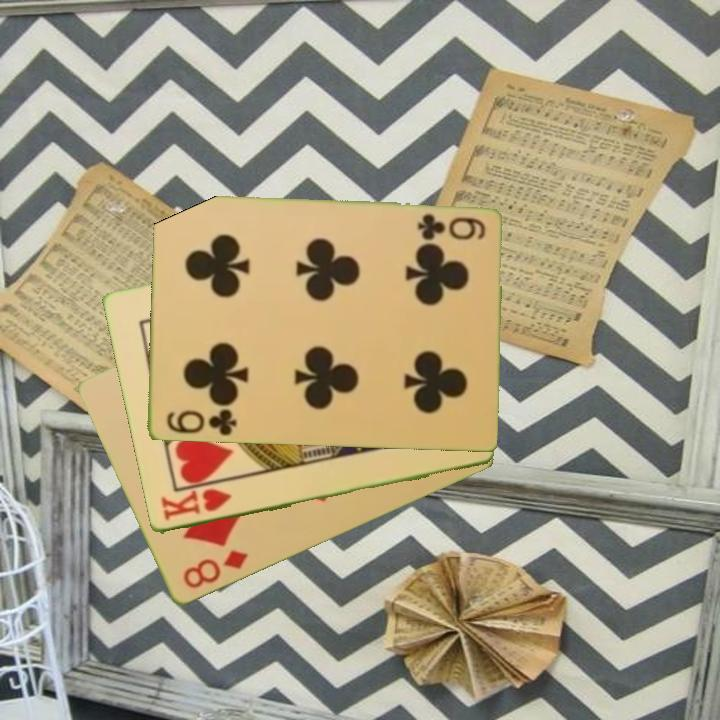6c: (163, 405, 239, 439), (413, 210, 488, 242)
8d: (179, 547, 251, 593)
Kh: (157, 485, 234, 524)
